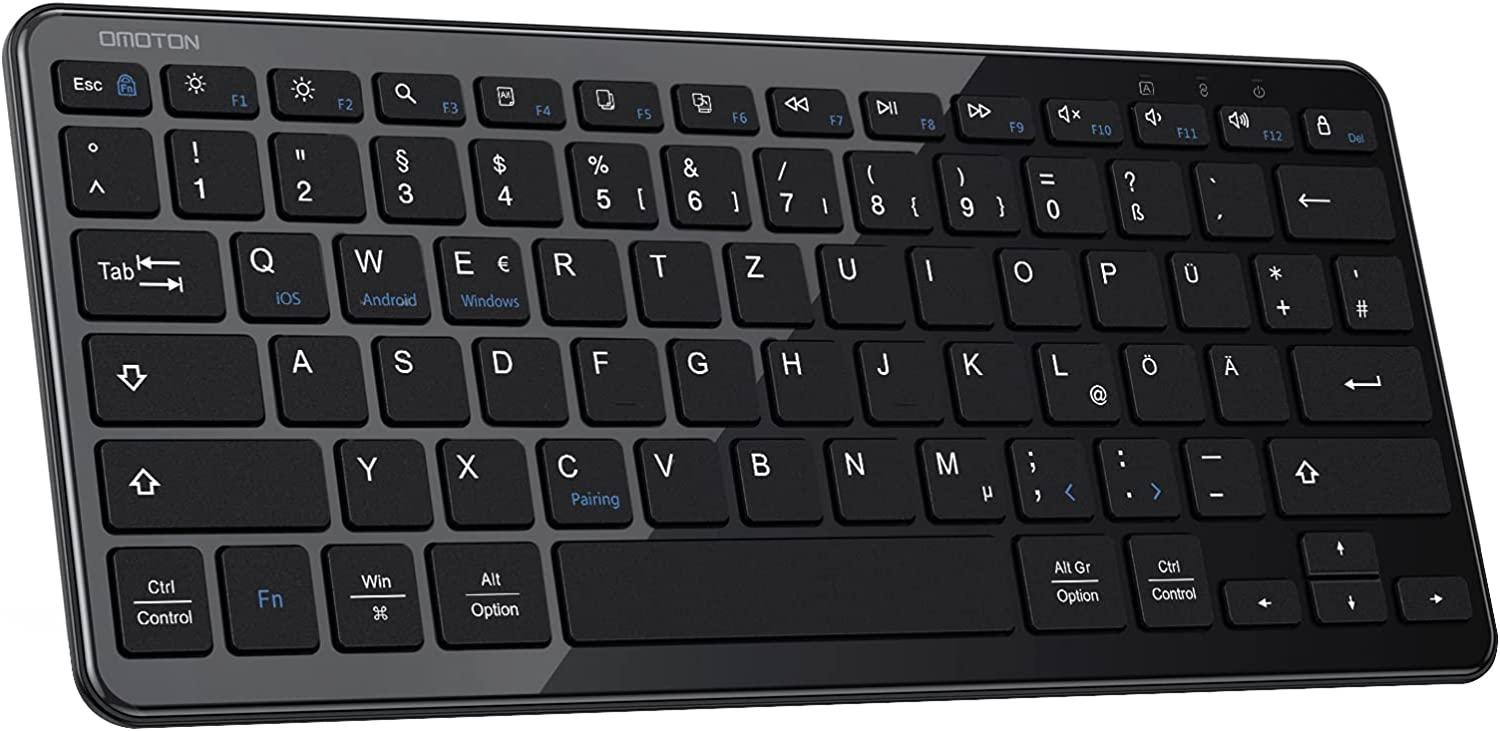0: (1021, 150, 1104, 233)
1: (165, 122, 261, 215)
2: (269, 126, 363, 218)
3: (368, 131, 463, 220)
4: (470, 132, 559, 222)
5: (565, 135, 653, 225)
6: (660, 138, 746, 226)
7: (754, 141, 838, 230)
8: (843, 142, 931, 231)
9: (933, 148, 1018, 232)
a: (269, 329, 366, 423)
accent: (1192, 154, 1270, 236)
ae: (1205, 338, 1287, 421)
alt-left: (424, 534, 553, 647)
altgr-right: (1012, 526, 1125, 630)
b: (728, 431, 822, 522)
c: (533, 431, 632, 526)
caret: (58, 121, 157, 213)
comma: (1004, 430, 1091, 519)
d: (470, 330, 566, 423)
del: (1275, 157, 1394, 238)
e: (434, 229, 529, 323)
enter: (1289, 338, 1432, 421)
f: (570, 331, 663, 423)
g: (666, 332, 758, 423)
h: (763, 333, 852, 422)
hash: (1333, 249, 1412, 331)
i: (907, 239, 993, 324)
j: (856, 333, 941, 422)
k: (946, 335, 1032, 422)
keyboard: (26, 28, 1496, 731)
l: (1036, 337, 1118, 423)
m: (914, 431, 1004, 521)
minus: (1179, 431, 1262, 516)
n: (823, 431, 915, 521)
o: (994, 241, 1078, 326)
oe: (1121, 337, 1203, 422)
p: (1082, 243, 1164, 326)
plus: (1251, 247, 1329, 328)
point: (1092, 430, 1176, 516)
q: (227, 225, 327, 320)
r: (533, 232, 626, 323)
s: (370, 330, 468, 424)
shift-left: (91, 431, 333, 529)
shift-lock: (79, 325, 266, 424)
shift-right: (1266, 429, 1450, 515)
space: (552, 528, 1016, 642)
ss: (1107, 153, 1186, 235)
strg-left: (105, 538, 213, 657)
strg-right: (1125, 526, 1211, 628)
t: (629, 234, 718, 322)
tab: (69, 221, 225, 319)
u: (816, 237, 905, 324)
ue: (1167, 244, 1248, 328)
v: (633, 431, 727, 523)
w: (332, 225, 427, 319)
x: (437, 432, 531, 526)
y: (334, 432, 431, 527)
z: (724, 235, 811, 324)
